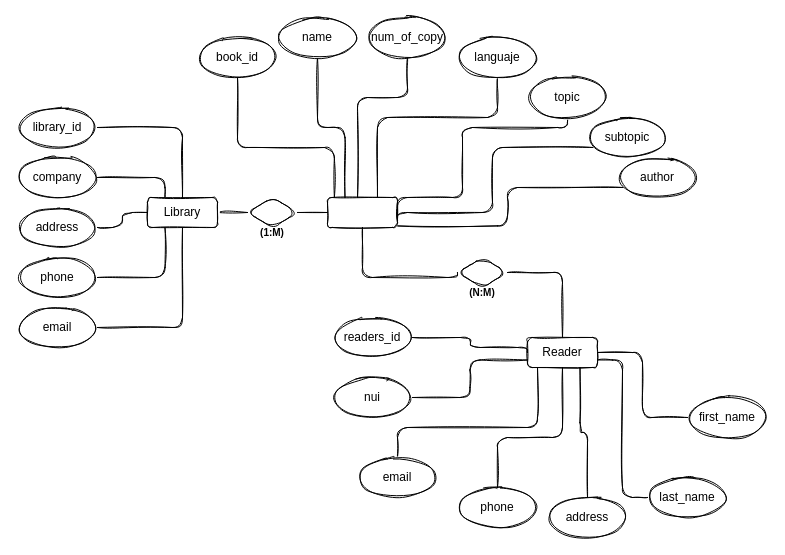
Some shapes in this 785 by 555 pixel diagram are drawn without their labels. Each missing label, with the centre of its shape:
"Books" goes at (x=362, y=212).
"has" goes at (x=272, y=212).
"rent" goes at (x=482, y=272).
